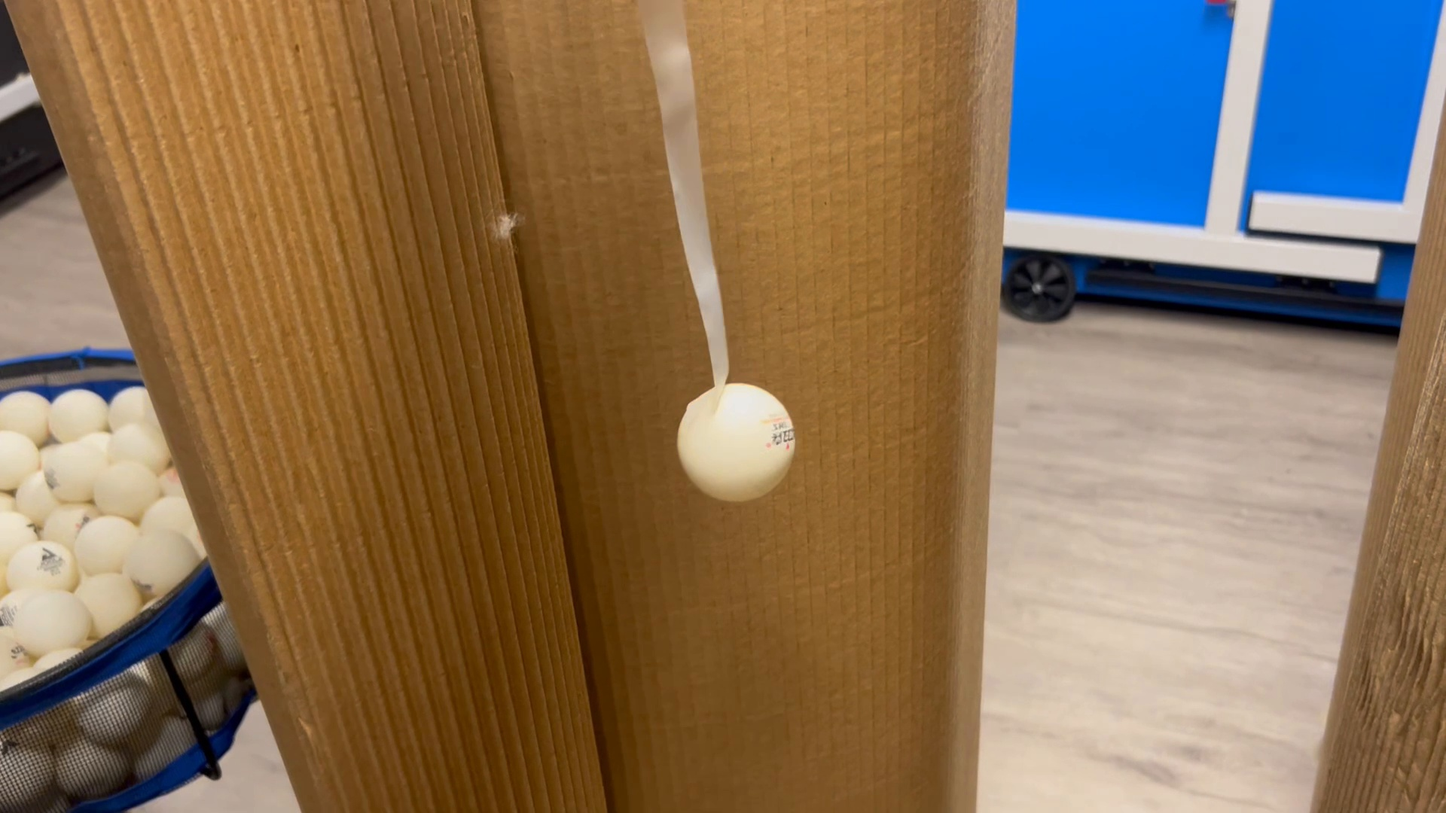Ball: (689, 389, 791, 495)
